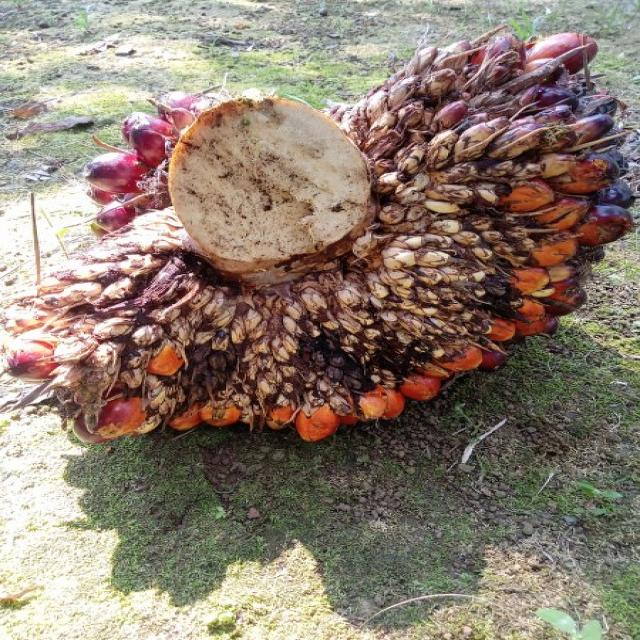fraksi 1: (11, 23, 624, 480)
